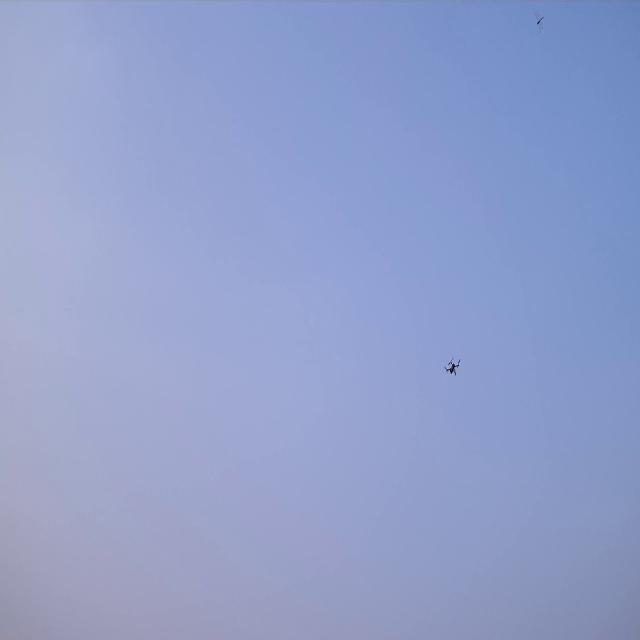UAV: (443, 356, 462, 378)
